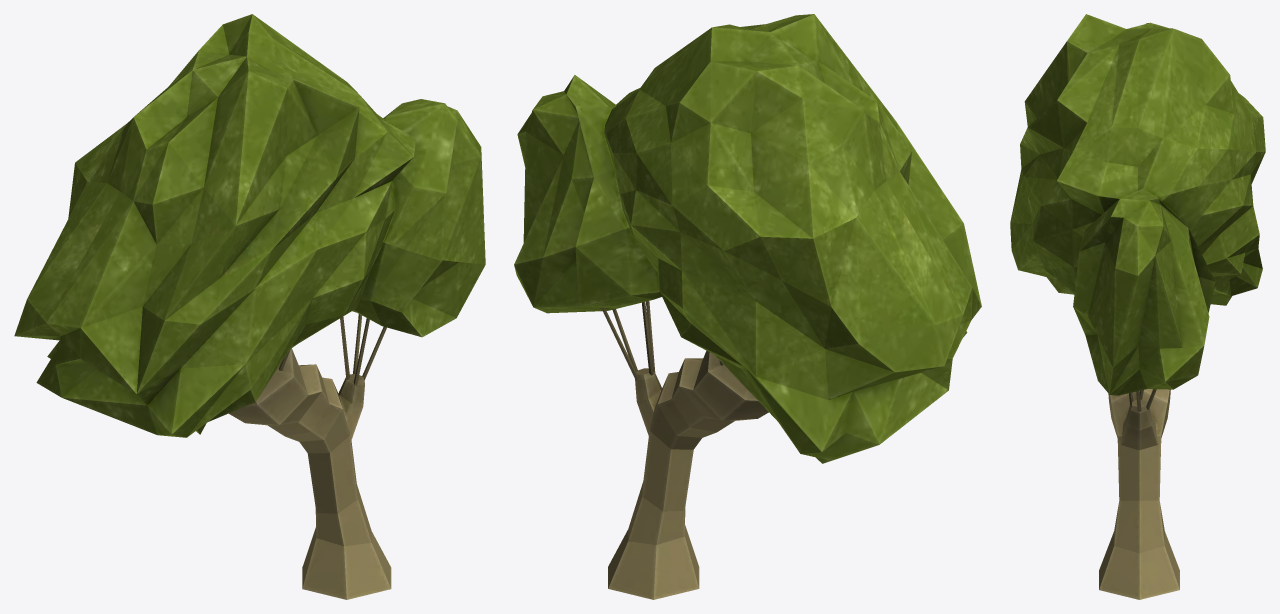
The model's file is 2acu5nrdDYl.glb.
The picture shows the model from 3 angles, left to right: view 1: azimuth 30°, elevation 25°; view 2: azimuth 150°, elevation 25°; view 3: azimuth 270°, elevation 25°; orthographic projection. The views are drawn at different scales.
Parts seen in each view (by area): view 1: PollardWillowTree_mesh; view 2: PollardWillowTree_mesh; view 3: PollardWillowTree_mesh.
Part boxes in pixels (left/top/right/bottom): PollardWillowTree_mesh: left=14, top=14, right=485, bottom=599; PollardWillowTree_mesh: left=514, top=14, right=981, bottom=599; PollardWillowTree_mesh: left=1010, top=14, right=1265, bottom=599.
Bounding box in the file's own units: 0.8125 × 1 × 0.4472.
Materials: 1 (1 with a texture image).
